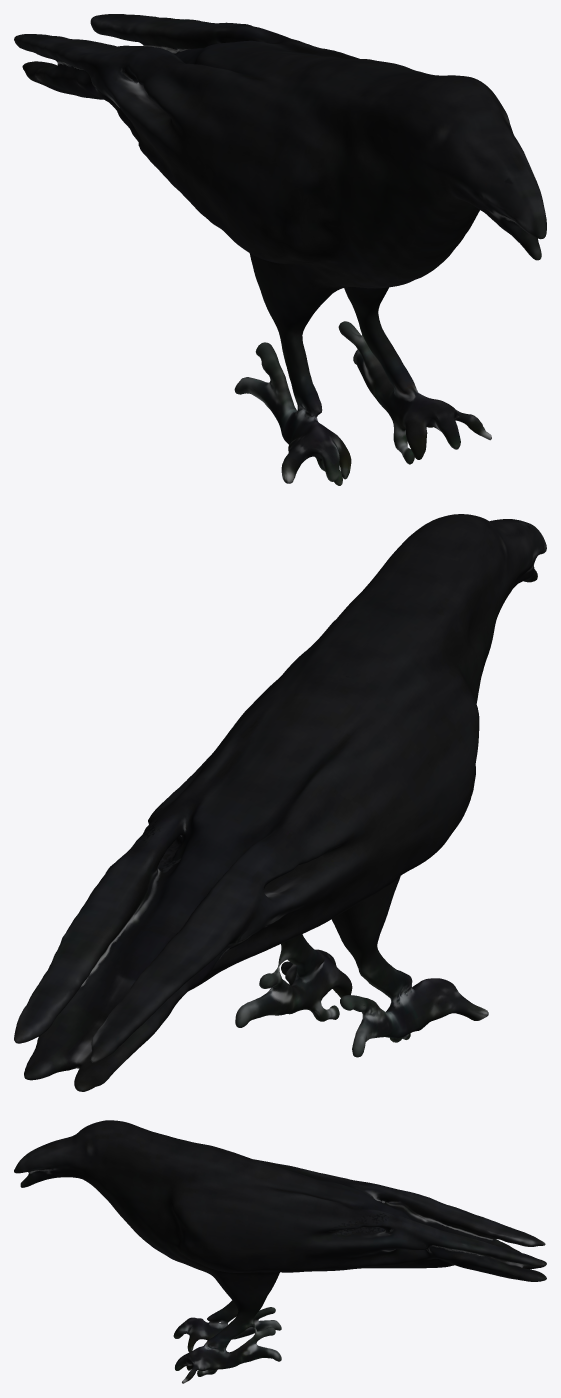
The model's file is ebdae75b9d94_crow__3d_asset_0_glb.glb.
The picture shows the model from 3 angles, top to bottom: view 1: azimuth 30°, elevation 25°; view 2: azimuth 150°, elevation 25°; view 3: azimuth 270°, elevation 25°; orthographic projection. The views are drawn at different scales.
Parts seen in each view (by area): view 1: world; view 2: world; view 3: world.
Part boxes in pixels (bbox=[...]): world: bbox=[14, 14, 546, 485]; world: bbox=[14, 514, 546, 1091]; world: bbox=[14, 1120, 546, 1383].
Size of the model in its own units: 0.1422 by 0.2887 by 0.5673.
Materials: 1 (1 with a texture image).
